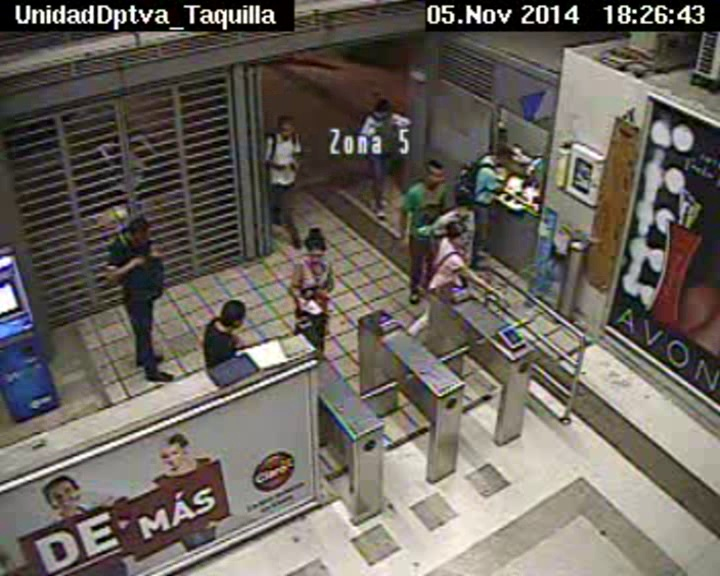person: (296, 229, 332, 263), (217, 296, 248, 330), (420, 156, 449, 190), (440, 219, 471, 250), (122, 216, 153, 246), (488, 141, 516, 170), (273, 113, 300, 142), (371, 92, 398, 119), (452, 185, 478, 212)
